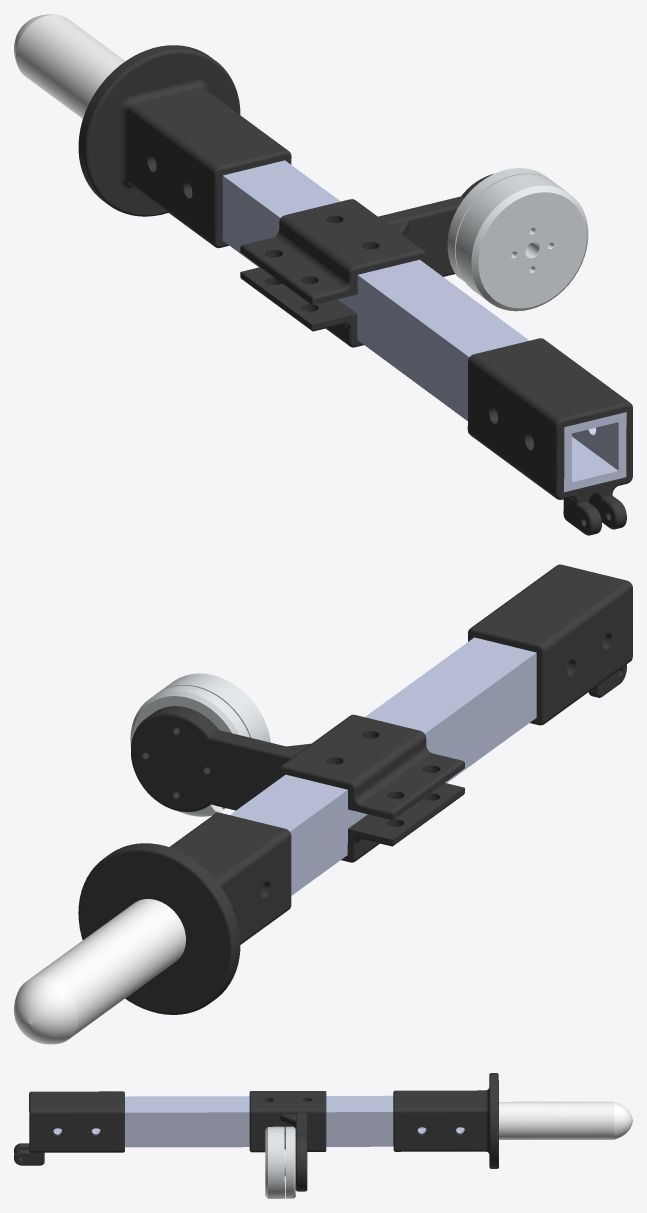
The model's file is Upper Tower.glb.
3 views of the same model, one above another, from view 1: azimuth 30°, elevation 25°; view 2: azimuth 150°, elevation 25°; view 3: azimuth 270°, elevation 25° (orthographic). The views are drawn at different scales.
Visible parts, largest first — view 1: Upper Tower; view 2: Upper Tower; view 3: Upper Tower.
Part boxes in pixels (x1,y1,x2,y2): Upper Tower: (14, 14, 632, 535); Upper Tower: (14, 564, 632, 1044); Upper Tower: (14, 1073, 632, 1198).
Bounding box in the file's own units: 0.1203 × 0.0635 × 0.4101.
